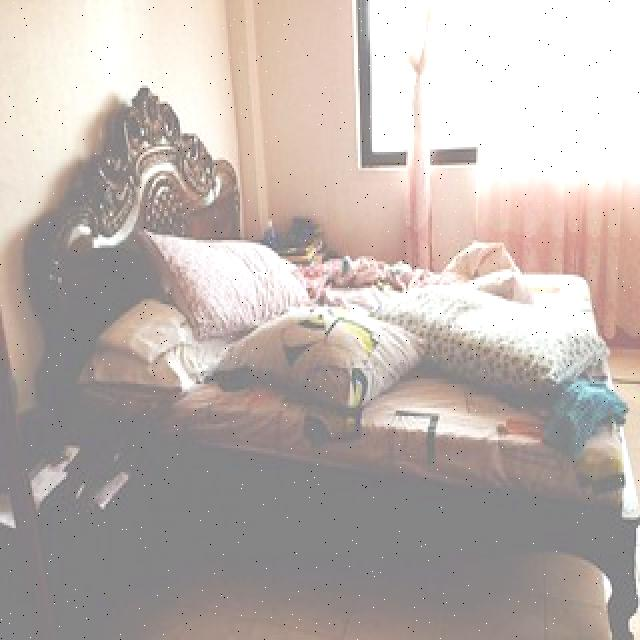bed: (54, 176, 633, 532)
